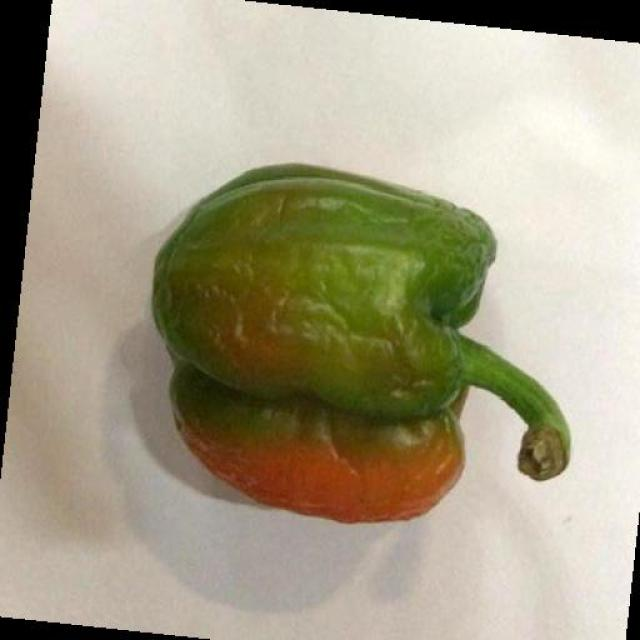Stale_Capsicum: (164, 131, 597, 566)
